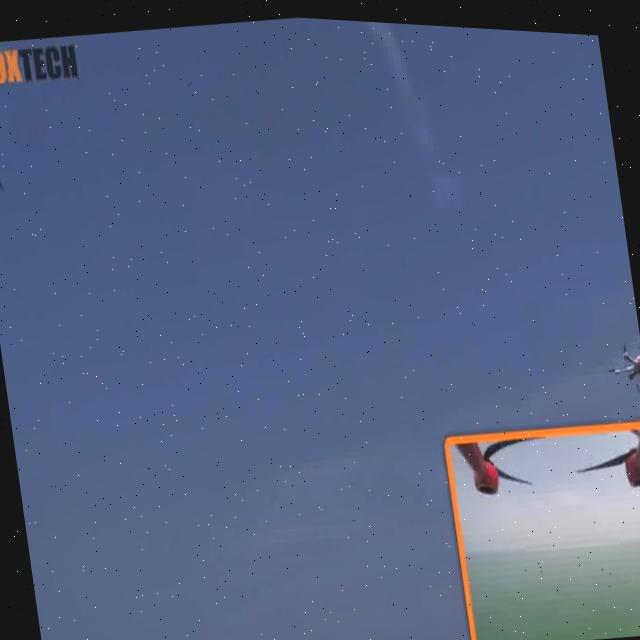drone: (606, 331, 640, 393)
